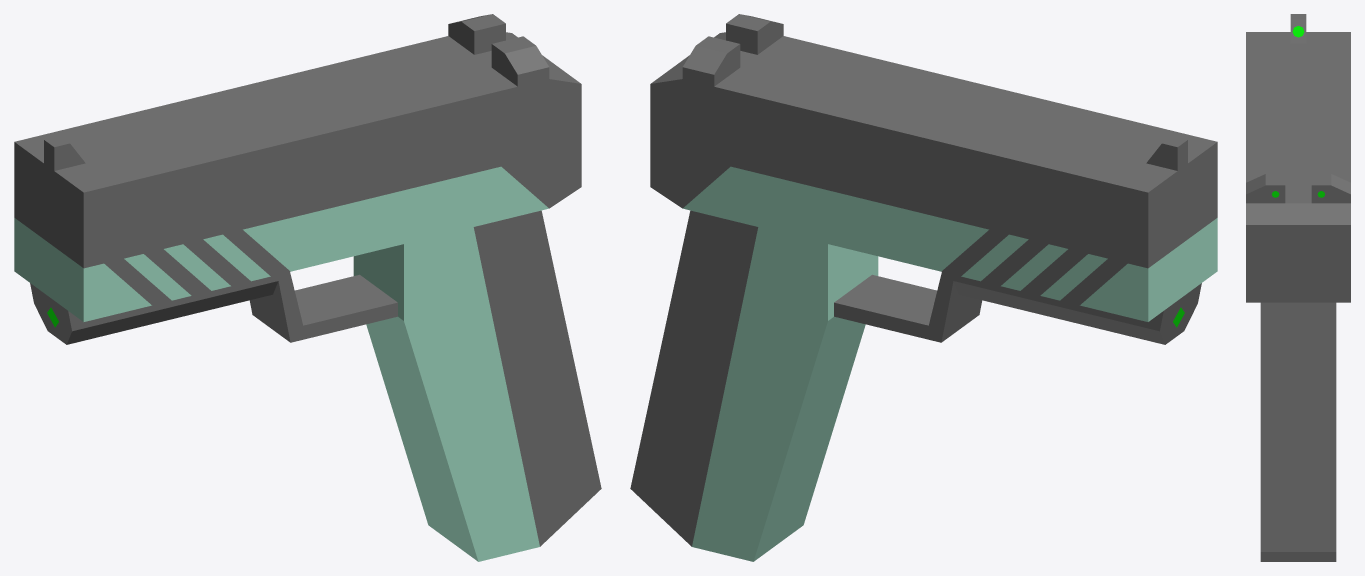
The model's file is Taser.fbx.
3 views of the same model, side by side, from view 1: azimuth 30°, elevation 25°; view 2: azimuth 150°, elevation 25°; view 3: azimuth 270°, elevation 25° (orthographic). The views are drawn at different scales.
Parts seen in each view (by area): view 1: Taser; view 2: Taser; view 3: Taser.
Boxes of the visible parts, x1,y1,x2,y2 form: Taser: [14, 14, 601, 561]; Taser: [630, 14, 1217, 561]; Taser: [1246, 14, 1350, 561].
Size of the model in its own units: 0.1278 by 0.1155 by 0.0291.
